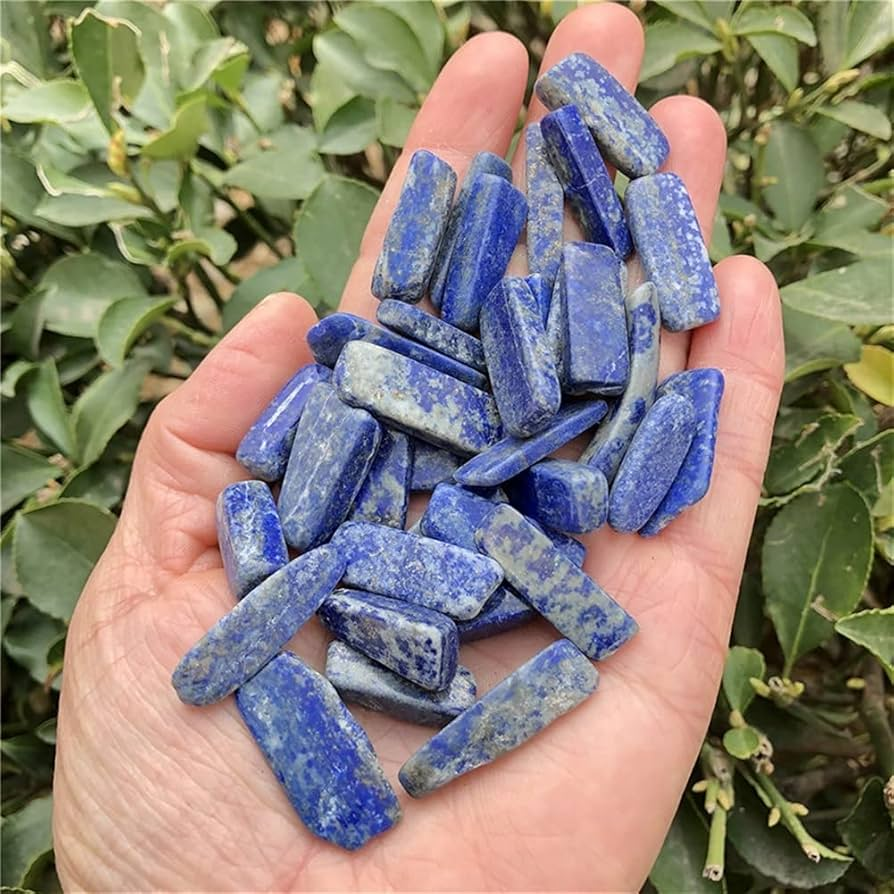Lapis_Lazuli: (381, 157, 702, 502), (311, 524, 514, 621), (532, 49, 675, 180)
